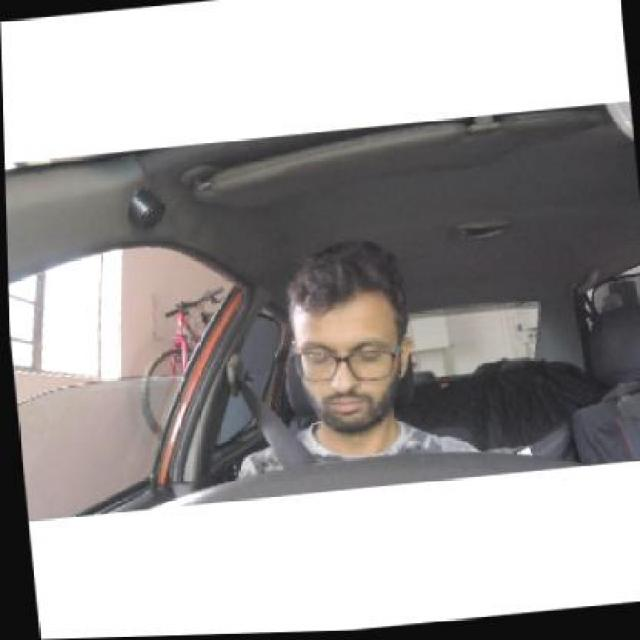drowsy: (274, 236, 422, 452)
